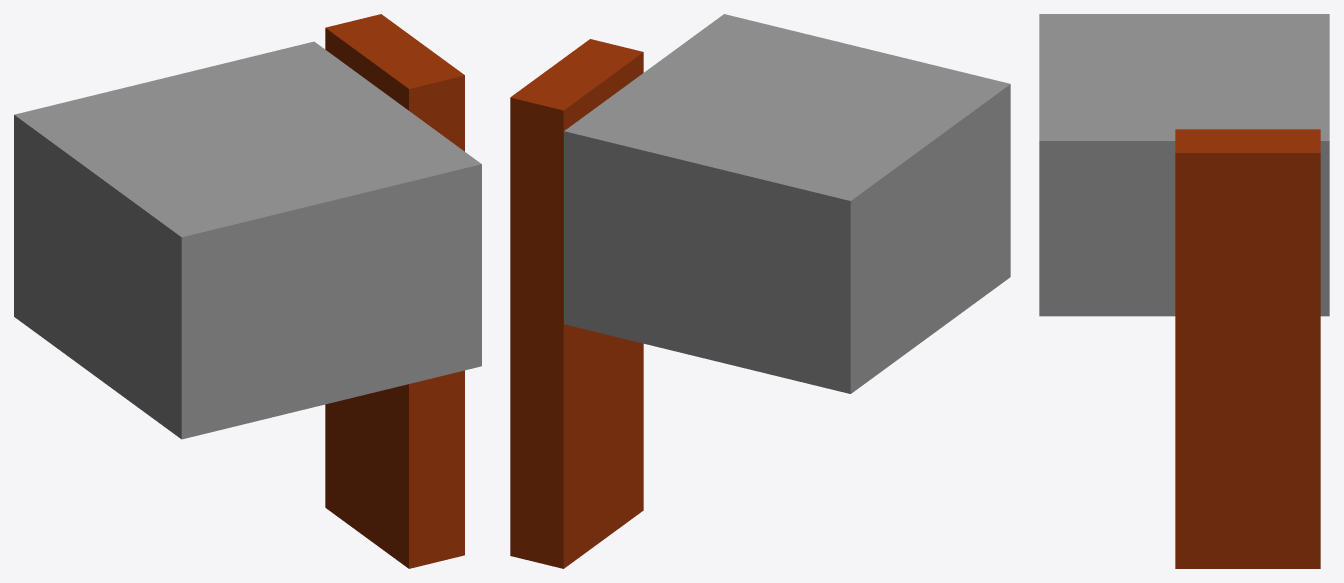
Rendered from startFlag.obj.
The picture shows the model from 3 angles, left to right: view 1: azimuth 30°, elevation 25°; view 2: azimuth 150°, elevation 25°; view 3: azimuth 270°, elevation 25°; orthographic projection. The views are drawn at different scales.
Parts seen in each view (by area): view 1: 立方体; view 2: 立方体; view 3: 立方体.
Boxes of the visible parts, x1,y1,x2,y2 form: 立方体: (14,14,481,568); 立方体: (510,14,1010,568); 立方体: (1039,14,1329,568).
Bounding box in the file's own units: 0.6687 × 0.8475 × 0.5363.
